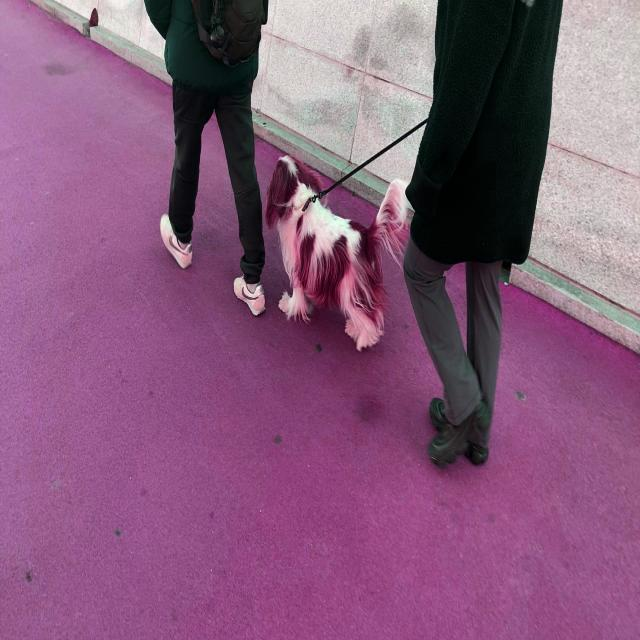Leashed_Dog: (266, 69, 465, 354)
